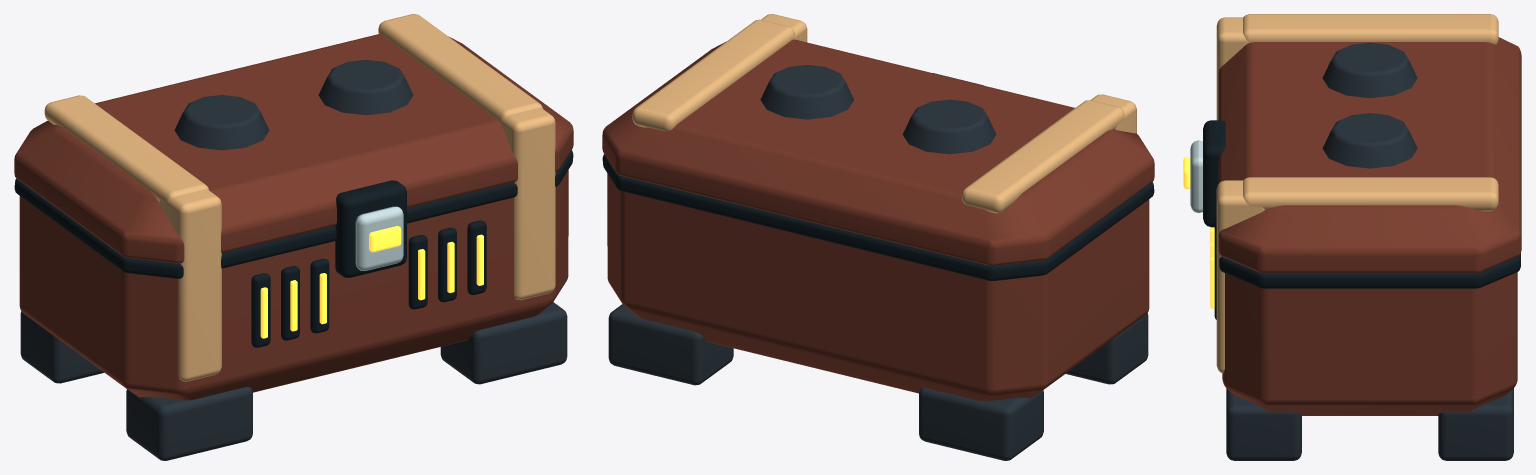
Rendered from salvage_cache.glb.
The picture shows the model from 3 angles, left to right: view 1: azimuth 30°, elevation 25°; view 2: azimuth 150°, elevation 25°; view 3: azimuth 270°, elevation 25°; orthographic projection.
Parts seen in each view (by area): view 1: Kiln assay coffer; view 2: Kiln assay coffer; view 3: Kiln assay coffer.
Part boxes in pixels (x1=…): Kiln assay coffer: x1=14, y1=14, x2=573, y2=460; Kiln assay coffer: x1=602, y1=14, x2=1154, y2=460; Kiln assay coffer: x1=1183, y1=14, x2=1521, y2=460.
Size of the model in its own units: 1.38 by 0.79 by 0.893.
